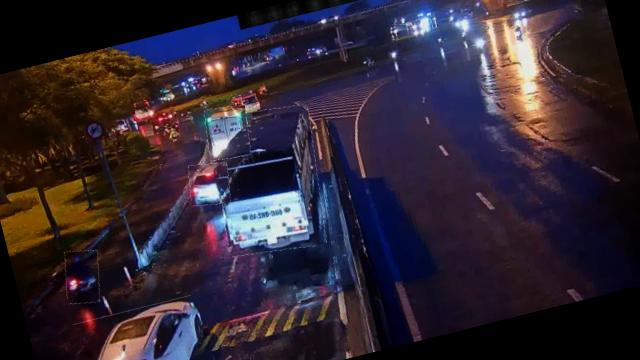Bike: (58, 246, 107, 308)
Car: (72, 295, 215, 360), (184, 158, 235, 210)
Truck: (200, 98, 337, 264), (200, 102, 256, 164)
